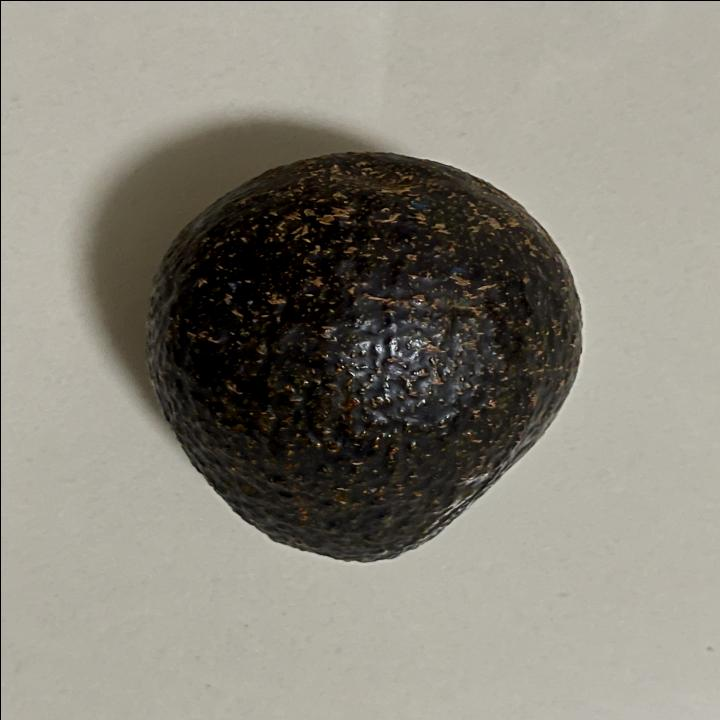Level2: (138, 144, 593, 574)
